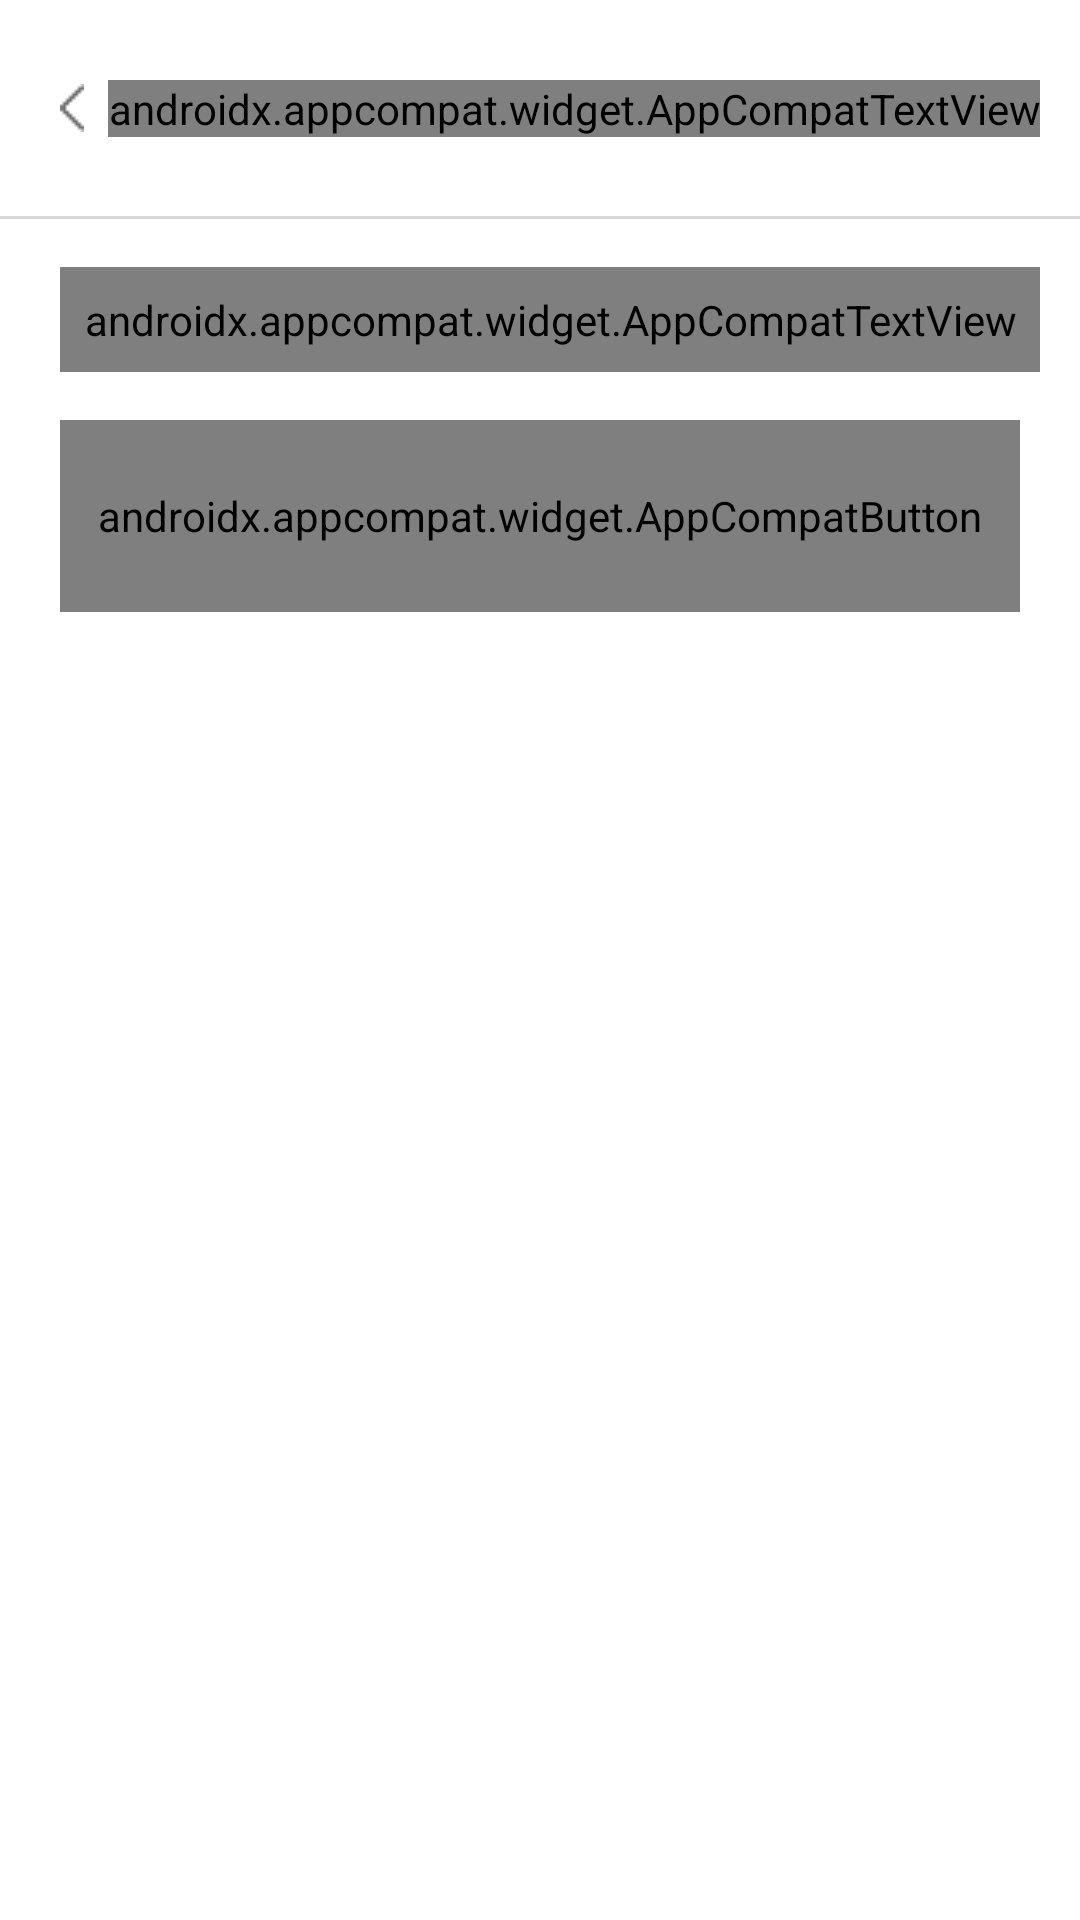

Point at icon controls on the screen. Image size 1080px×1920px, points as (x,y).
back arrow: (72,108)
